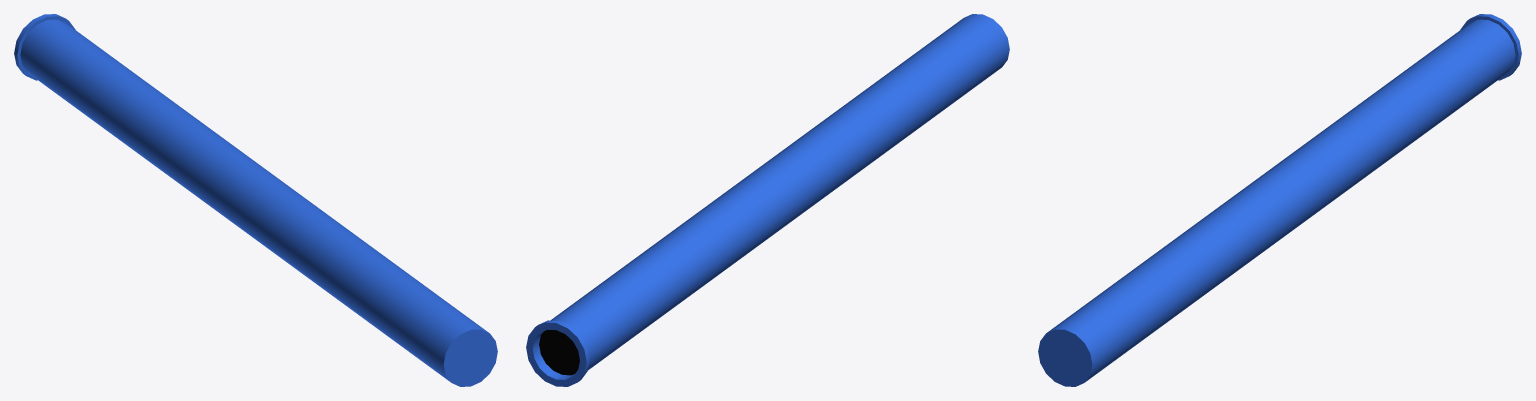
Rendered from Validator Pipe.fbx.
3 views of the same model, side by side, from view 1: azimuth 30°, elevation 25°; view 2: azimuth 150°, elevation 25°; view 3: azimuth 330°, elevation 25° (orthographic).
Parts seen in each view (by area): view 1: Validator; view 2: Validator; view 3: Validator.
Part boxes in pixels (bbox=[...]): Validator: bbox=[14, 14, 497, 386]; Validator: bbox=[526, 14, 1009, 386]; Validator: bbox=[1038, 14, 1521, 386].
Bounding box in the file's own units: 223 × 223 × 2720.
